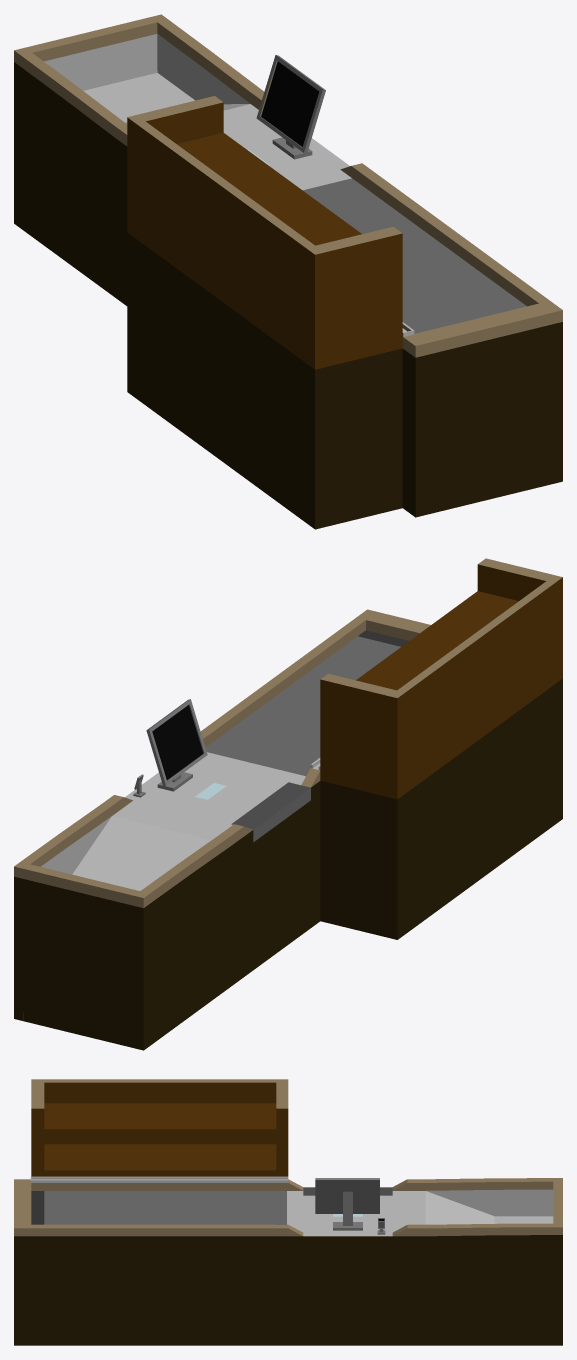
Rendered from Kasse.fbx.
3 views of the same model, one above another, from view 1: azimuth 30°, elevation 25°; view 2: azimuth 150°, elevation 25°; view 3: azimuth 270°, elevation 25° (orthographic). The views are drawn at different scales.
Visible parts, largest first — view 1: Cube; view 2: Cube; view 3: Cube.
Part boxes in pixels (left/top/right/bottom): Cube: left=14, top=14, right=562, bottom=529; Cube: left=14, top=558, right=562, bottom=1050; Cube: left=14, top=1079, right=562, bottom=1345.
Bounding box in the file's own units: 480 × 536 × 1420.
